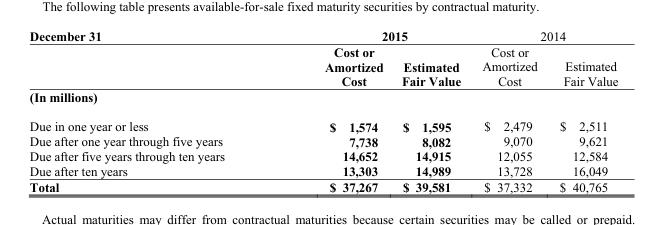table: (28, 28, 617, 193)
table column: (28, 28, 273, 193), (273, 28, 391, 193), (391, 28, 470, 193), (470, 28, 547, 193), (547, 28, 617, 193)
table column header: (28, 28, 617, 88)
table projected row header: (28, 88, 617, 111)
table row: (28, 43, 617, 88), (28, 88, 617, 111), (28, 111, 617, 133), (28, 28, 617, 43), (28, 133, 617, 148), (28, 148, 617, 163), (28, 163, 617, 178), (28, 178, 617, 193)
table spanning cell: (28, 28, 273, 88), (273, 28, 470, 43), (470, 28, 617, 43)
